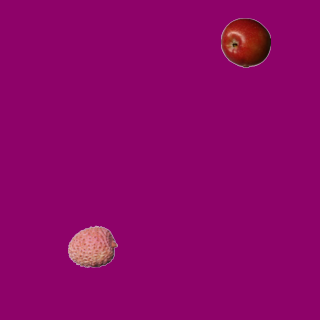Apple Braeburn: (220, 17, 270, 67)
Lychee: (67, 221, 117, 271)
